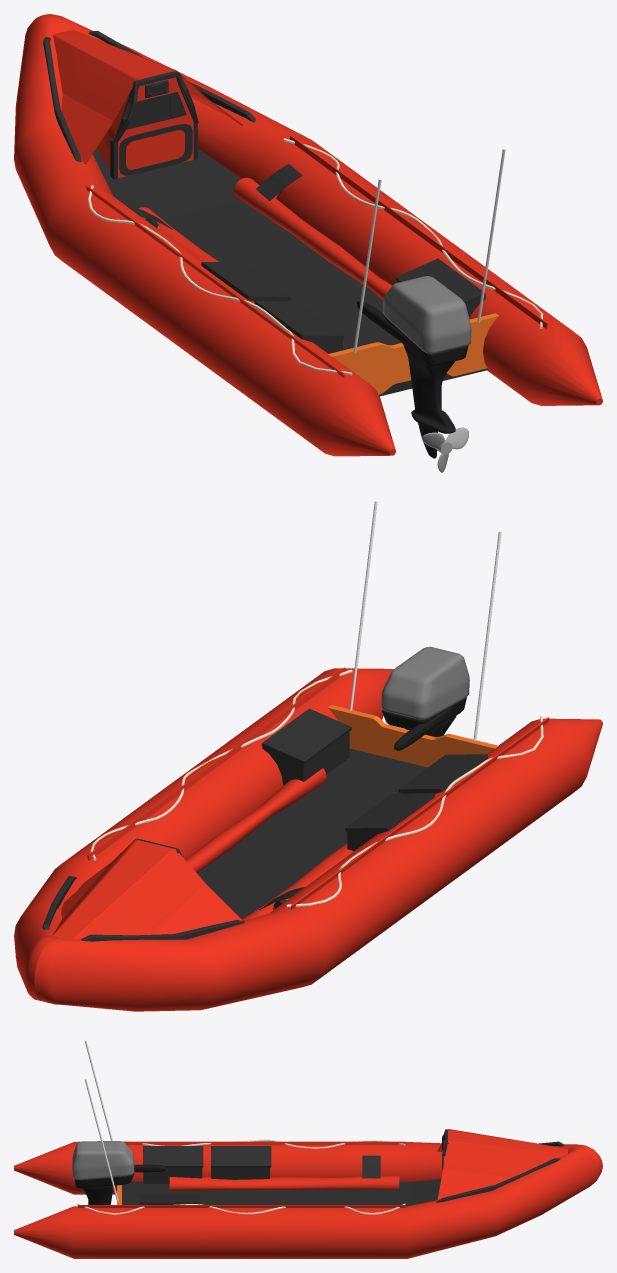
Rendered from ilb_ex.fbx.
3 views of the same model, one above another, from view 1: azimuth 30°, elevation 25°; view 2: azimuth 150°, elevation 25°; view 3: azimuth 270°, elevation 25° (orthographic). The views are drawn at different scales.
Parts seen in each view (by area): view 1: sponsons, polySurface4, pCube1, engine2:pCube2, polySurface3, fuel_tank:pCylinder1, engine2:polySurface2, pCube15, hatch2, hatch1, pCube14, hatch3 (+14 smaller); view 2: sponsons, polySurface4, pCube1, engine2:pCube2, polySurface3, fuel_tank:pCylinder1, hatch3, pCube15, hatch2, hatch1, bag3, pCube14 (+8 smaller); view 3: sponsons, pCube1, polySurface4, pCylinder1, engine2:pCube2, hatch2, hatch1, pCube14, pCube15, bag2, bag1, hatch3 (+7 smaller).
Boxes of the visible parts, <box> form: sponsons: <box>14,14,602,456</box>; polySurface4: <box>93,148,488,396</box>; pCube1: <box>53,30,243,178</box>; engine2:pCube2: <box>382,276,471,354</box>; polySurface3: <box>328,313,498,394</box>; fuel_tank:pCylinder1: <box>233,177,392,299</box>; engine2:polySurface2: <box>403,344,455,458</box>; pCube15: <box>289,135,548,328</box>; hatch2: <box>201,262,291,300</box>; hatch1: <box>254,301,344,339</box>; pCube14: <box>86,185,344,377</box>; hatch3: <box>395,258,485,304</box>; sponsons: <box>14,668,602,1011</box>; polySurface4: <box>197,748,427,919</box>; pCube1: <box>53,839,242,939</box>; engine2:pCube2: <box>381,646,469,719</box>; polySurface3: <box>328,705,498,767</box>; fuel_tank:pCylinder1: <box>185,768,326,872</box>; hatch3: <box>261,708,351,764</box>; pCube15: <box>87,667,345,860</box>; hatch2: <box>345,793,434,831</box>; hatch1: <box>398,754,488,792</box>; bag3: <box>262,731,349,785</box>; pCube14: <box>290,717,549,909</box>; sponsons: <box>14,1142,602,1258</box>; pCube1: <box>437,1129,568,1199</box>; polySurface4: <box>122,1179,441,1206</box>; pCylinder1: <box>169,1175,399,1190</box>; engine2:pCube2: <box>72,1141,134,1180</box>; hatch2: <box>211,1146,271,1167</box>; hatch1: <box>143,1146,203,1167</box>; pCube14: <box>78,1141,405,1144</box>; pCube15: <box>78,1205,405,1207</box>; bag2: <box>211,1167,269,1179</box>; bag1: <box>143,1167,202,1183</box>; hatch3: <box>140,1194,200,1204</box>.
Size of the model in its own units: 5.91 by 6.21 by 16.96.
